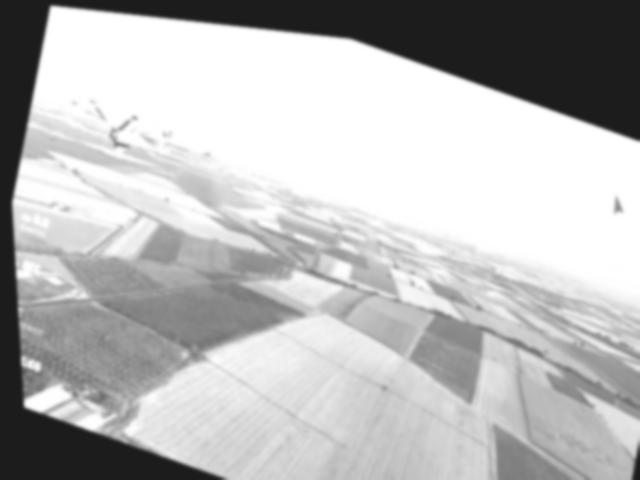hedef: (49, 76, 223, 197)
